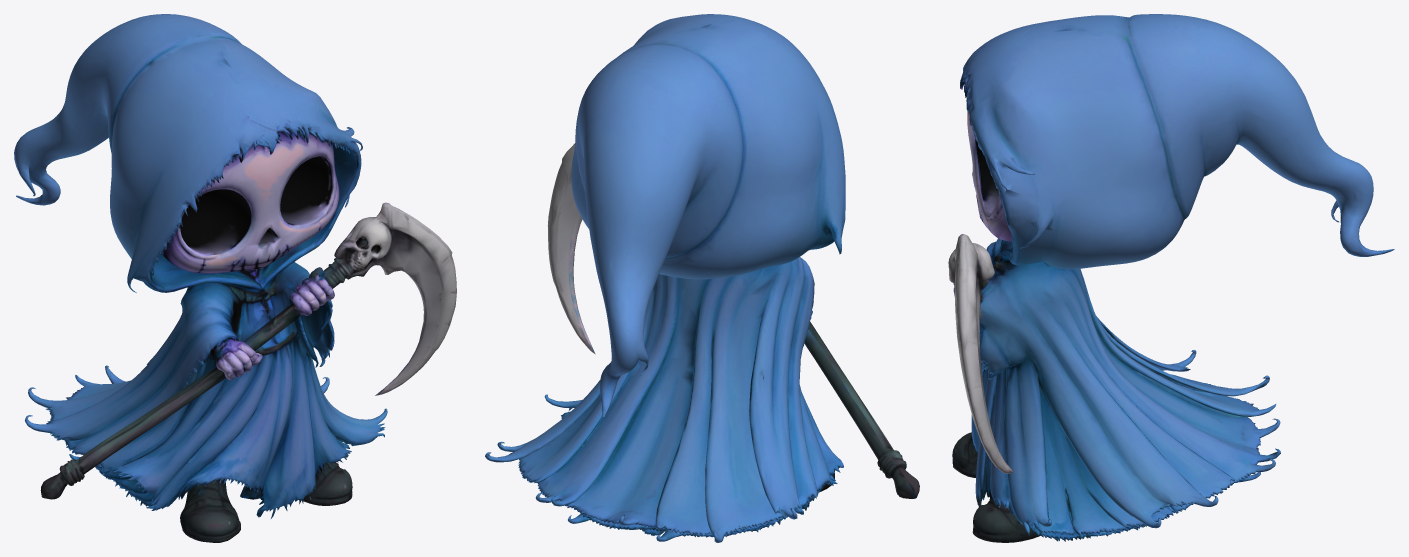
Rendered from voodo.glb.
3 renders of one model, left to right at view 1: azimuth 30°, elevation 25°; view 2: azimuth 150°, elevation 25°; view 3: azimuth 270°, elevation 25°, orthographic. The views are drawn at different scales.
Parts seen in each view (by area): view 1: material; view 2: material; view 3: material.
Boxes of the visible parts, x1=… form: material: x1=14, y1=14, x2=456, y2=542; material: x1=485, y1=14, x2=919, y2=542; material: x1=948, y1=14, x2=1394, y2=542.
Size of the model in its own units: 0.8171 by 0.9075 by 0.7769.
1 material, 1 textured.
